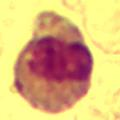lymphocyte: (10, 10, 96, 115)
